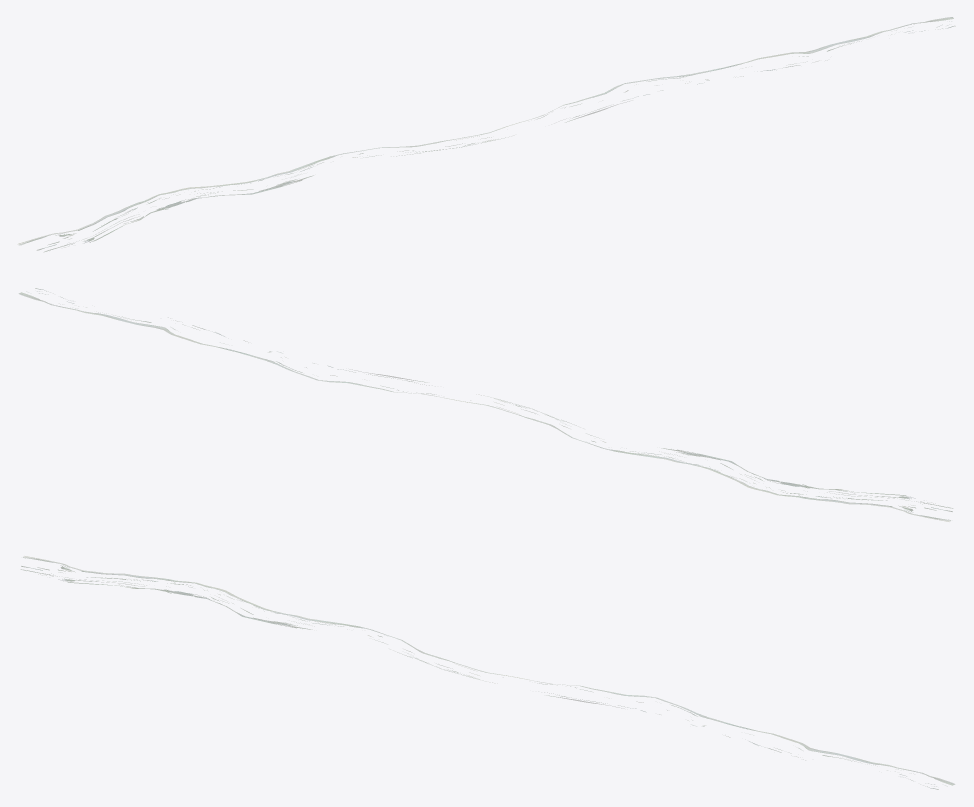
Rendered from wave05_03_01.FBX.
The picture shows the model from 3 angles, top to bottom: view 1: azimuth 30°, elevation 25°; view 2: azimuth 150°, elevation 25°; view 3: azimuth 330°, elevation 25°; orthographic projection.
Parts seen in each view (by area): view 1: wave05_03_01; view 2: wave05_03_01; view 3: wave05_03_01.
Boxes of the visible parts, x1,y1,x2,y2 form: wave05_03_01: [17, 17, 955, 252]; wave05_03_01: [18, 288, 953, 521]; wave05_03_01: [20, 556, 955, 789].
Size of the model in its own units: 120 by 8.57 by 1.92e-06.
